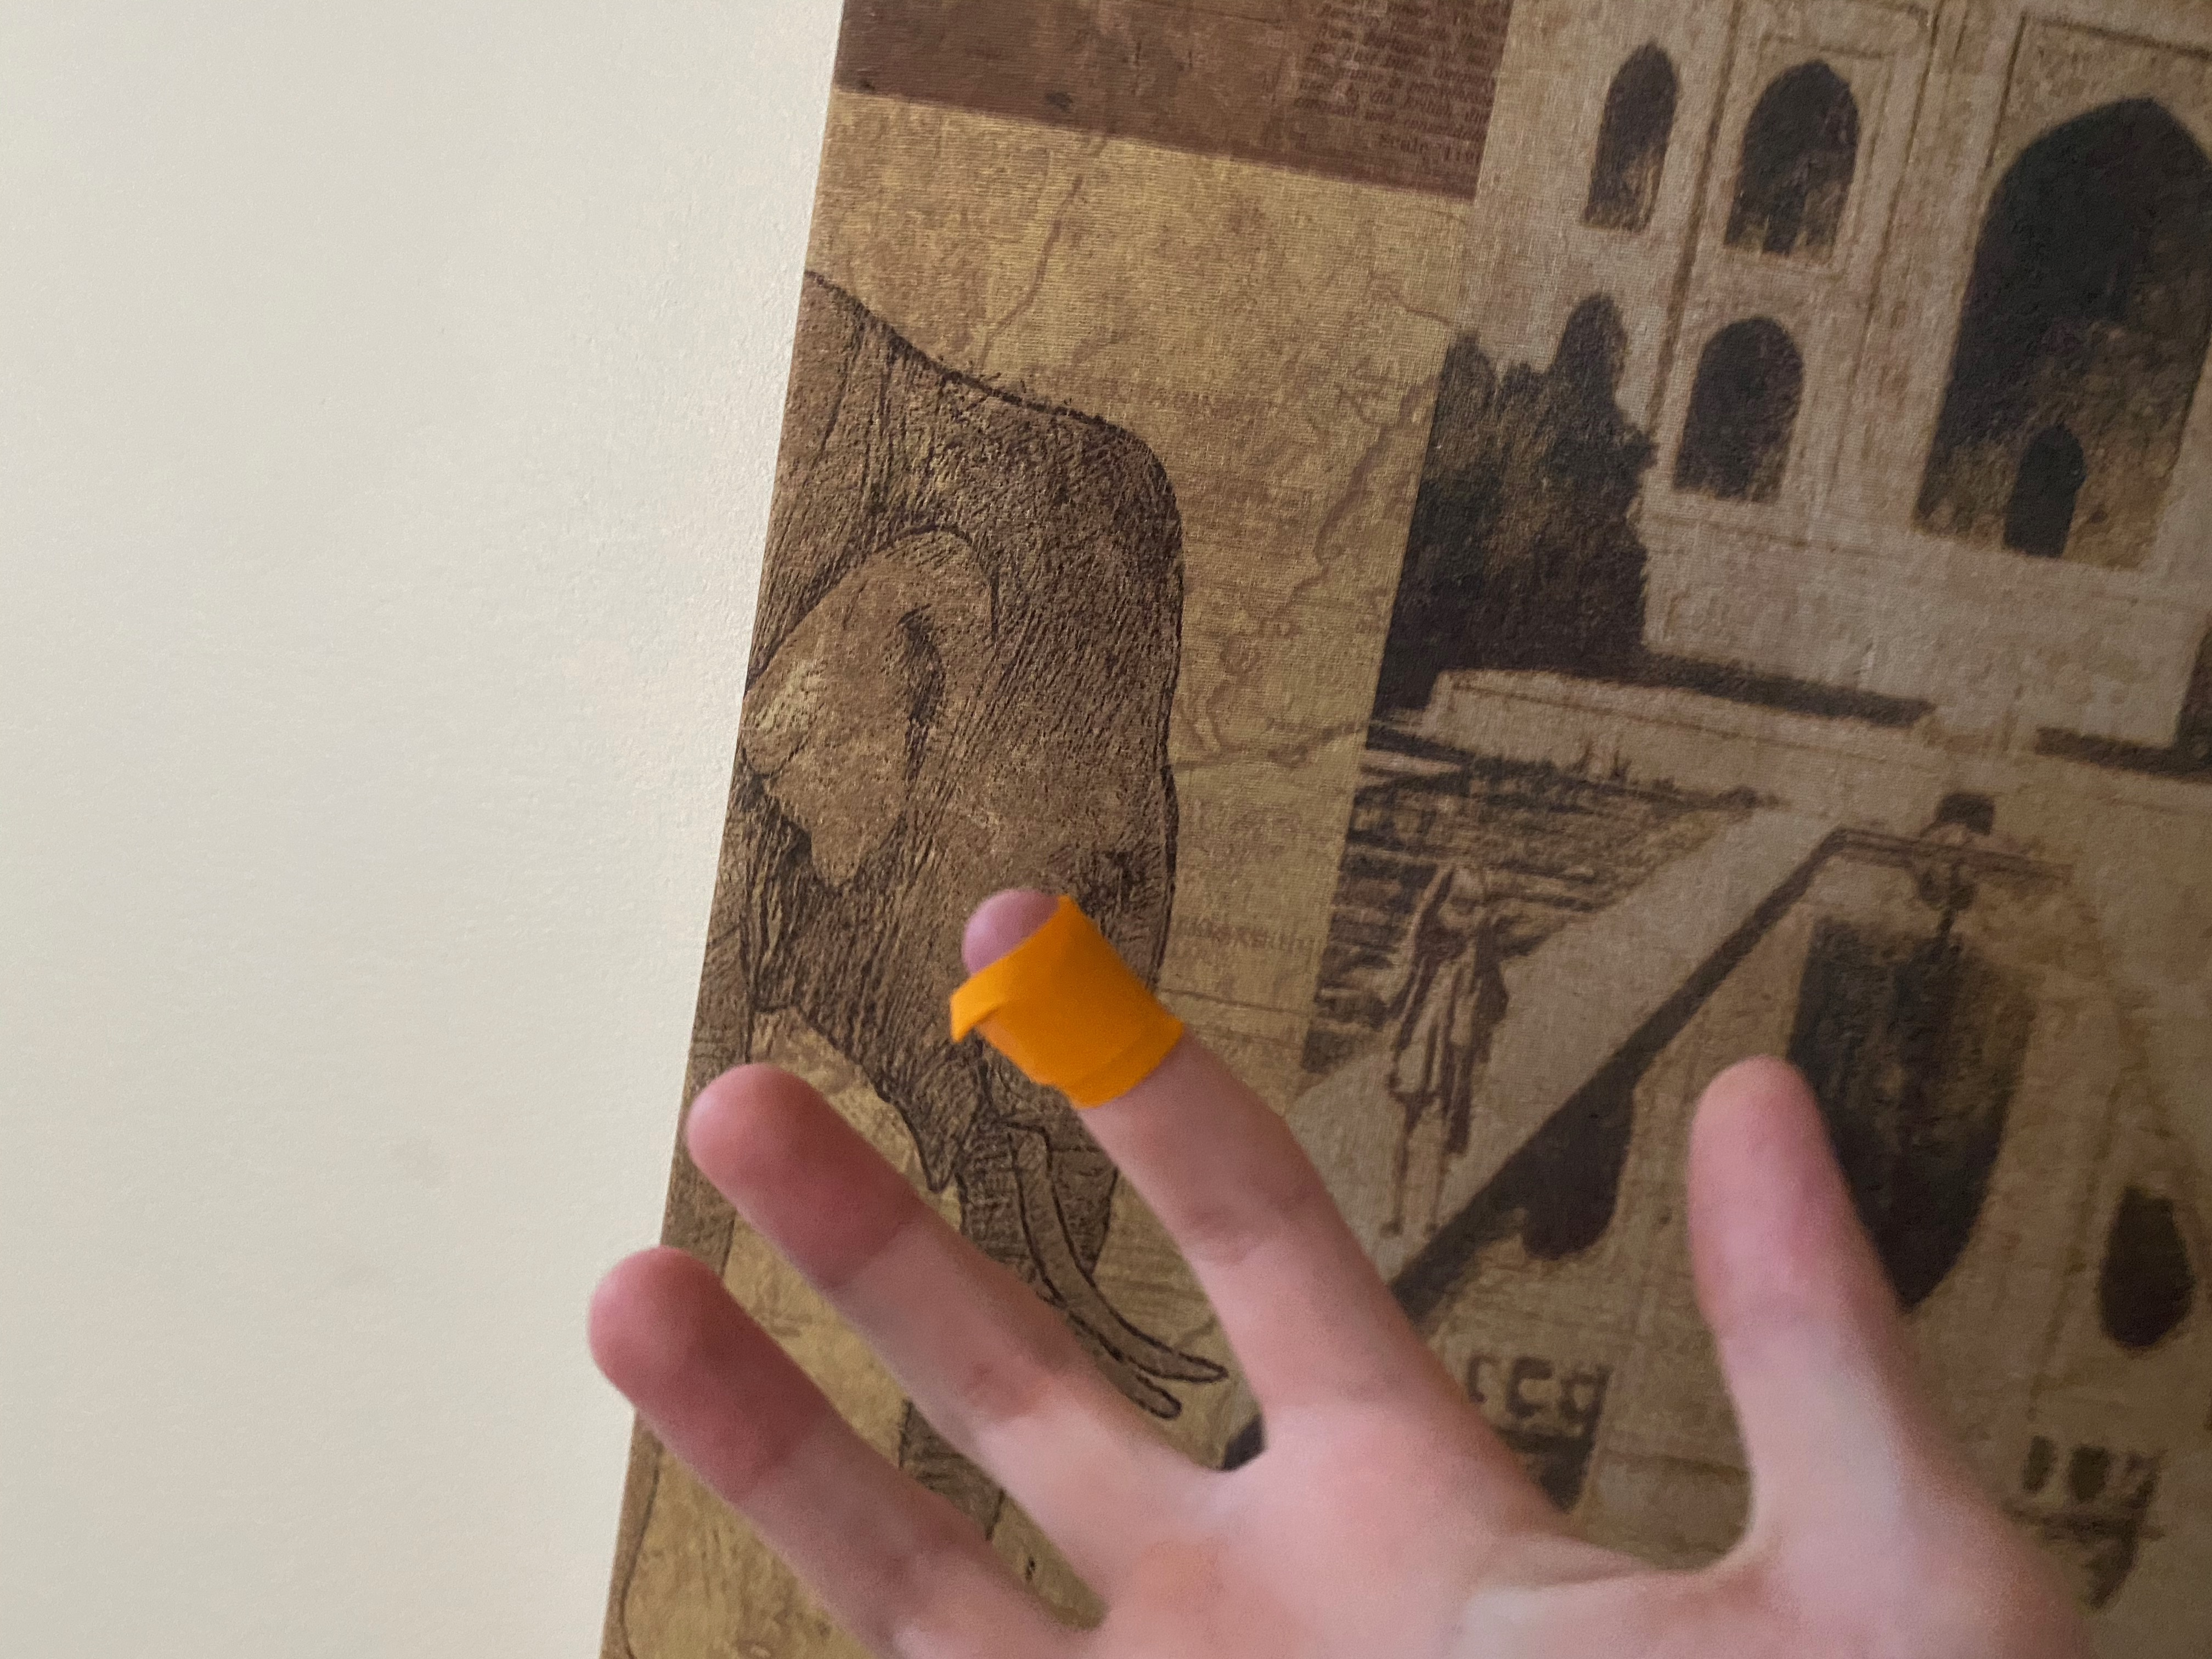fingertip: (928, 873, 1242, 1121)
